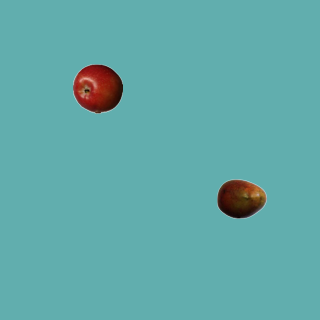Apple Braeburn: (72, 63, 122, 113)
Mango Red: (216, 173, 266, 223)
